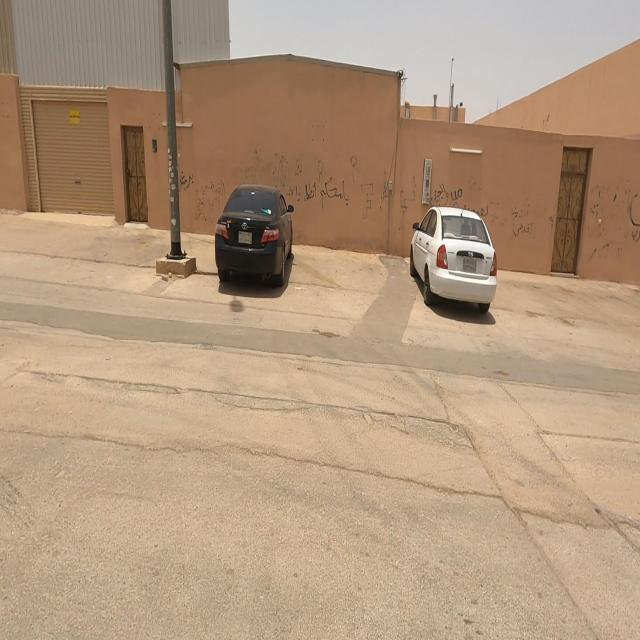Graffiti: (239, 147, 359, 207), (589, 182, 640, 257), (180, 171, 225, 222), (434, 184, 491, 222), (399, 174, 421, 217), (513, 206, 535, 241), (361, 179, 374, 220)
